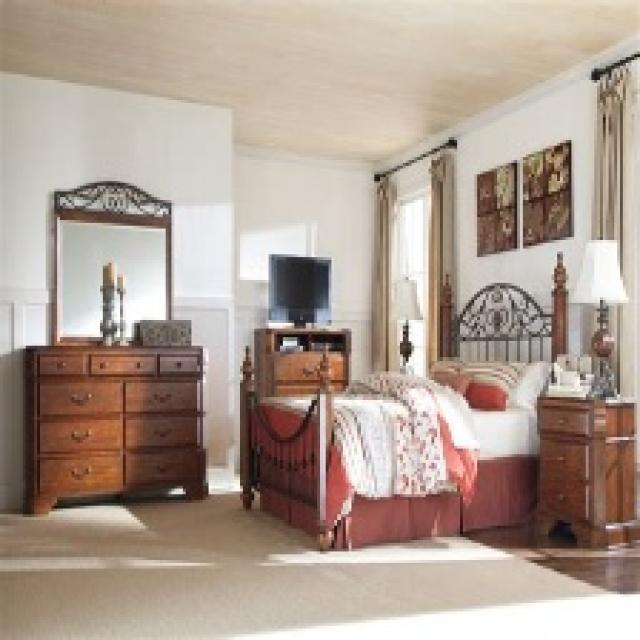Bed: (237, 248, 566, 552)
